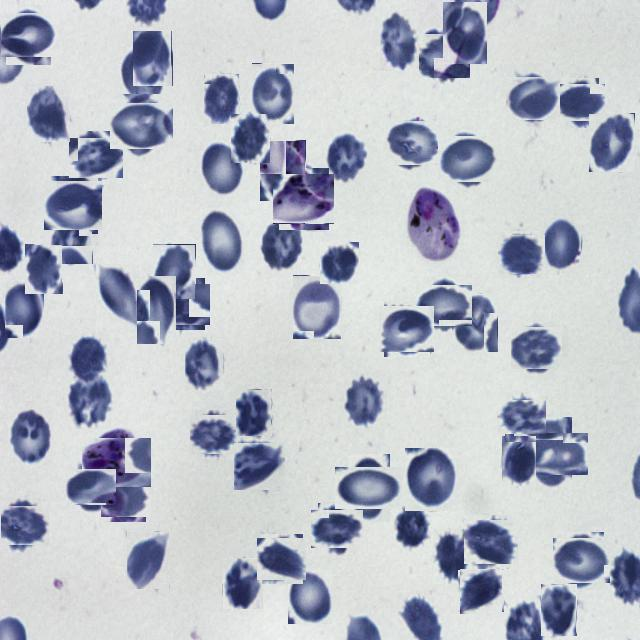difficult: (407, 190, 459, 264)
red blood cell: (522, 425, 580, 483), (405, 448, 457, 511), (293, 275, 342, 339), (114, 98, 169, 153), (342, 460, 396, 516), (441, 132, 495, 186), (46, 178, 100, 232), (200, 208, 244, 274), (94, 264, 138, 328), (260, 140, 306, 201), (137, 275, 177, 344), (66, 371, 114, 428), (443, 2, 487, 64), (589, 113, 635, 172), (556, 535, 608, 587), (2, 9, 54, 61), (8, 408, 54, 466), (452, 294, 498, 352), (252, 63, 295, 124), (126, 531, 170, 589), (416, 30, 467, 80), (27, 85, 71, 142), (388, 118, 438, 168), (382, 304, 432, 354), (258, 217, 306, 269), (199, 141, 243, 197), (325, 130, 369, 186), (120, 47, 164, 103), (235, 442, 284, 492), (380, 10, 420, 71), (420, 281, 469, 330), (508, 74, 558, 122), (288, 570, 332, 624), (153, 244, 196, 299), (466, 518, 515, 566), (160, 280, 208, 328), (344, 374, 386, 428), (5, 280, 44, 338), (72, 134, 119, 182), (132, 30, 172, 86), (513, 324, 560, 371), (0, 501, 45, 549), (259, 536, 305, 582), (50, 215, 93, 264), (222, 558, 263, 609), (314, 507, 360, 552), (185, 337, 224, 390), (544, 216, 582, 270), (433, 529, 470, 584), (103, 475, 148, 520), (192, 412, 236, 457), (558, 81, 602, 125), (499, 232, 543, 276), (68, 465, 112, 509), (459, 569, 503, 613), (231, 114, 270, 163), (25, 244, 63, 294), (541, 584, 577, 636), (204, 73, 240, 124), (68, 336, 106, 384), (501, 396, 543, 438), (502, 436, 536, 486), (236, 389, 272, 436), (320, 242, 359, 284), (394, 507, 430, 550)
trophozoite: (86, 433, 146, 492), (276, 171, 332, 227)
